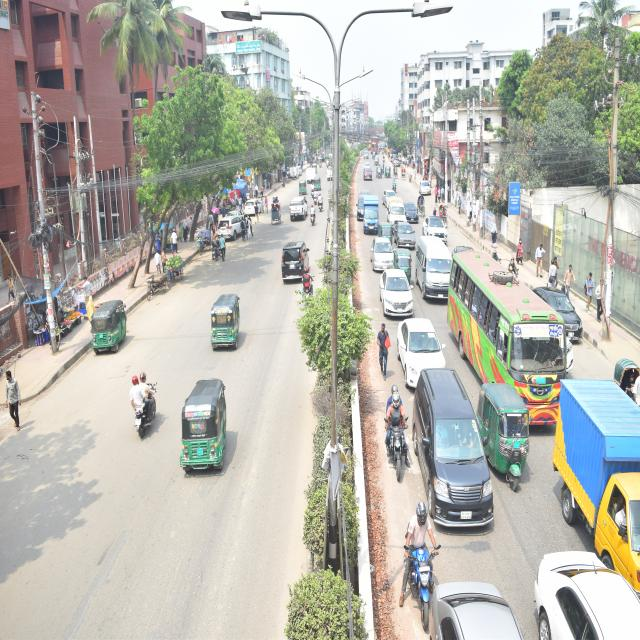bus: (447, 244, 584, 423), (366, 134, 383, 164)
car: (410, 361, 497, 528), (528, 526, 640, 640), (442, 552, 526, 640), (530, 264, 594, 368), (390, 304, 450, 383), (207, 206, 253, 259), (379, 260, 420, 316), (281, 188, 318, 238), (240, 188, 270, 224), (450, 225, 477, 264), (370, 228, 398, 265), (422, 200, 450, 235), (390, 214, 418, 248), (396, 190, 421, 227), (354, 181, 368, 225), (415, 170, 436, 198), (378, 182, 399, 206), (324, 164, 341, 187), (361, 164, 376, 184), (359, 160, 374, 177), (361, 146, 374, 164), (393, 154, 402, 175)
motorbike: (393, 495, 439, 640), (118, 359, 168, 461), (380, 368, 416, 486), (290, 262, 318, 310), (209, 227, 226, 274), (506, 258, 526, 285), (484, 247, 506, 267), (319, 197, 332, 226), (309, 203, 321, 234), (309, 183, 317, 206), (312, 186, 318, 210), (392, 176, 399, 196), (382, 154, 388, 168)
pickup-van: (560, 360, 640, 569), (357, 186, 382, 240), (388, 193, 411, 238), (300, 161, 318, 188), (286, 160, 302, 184)
